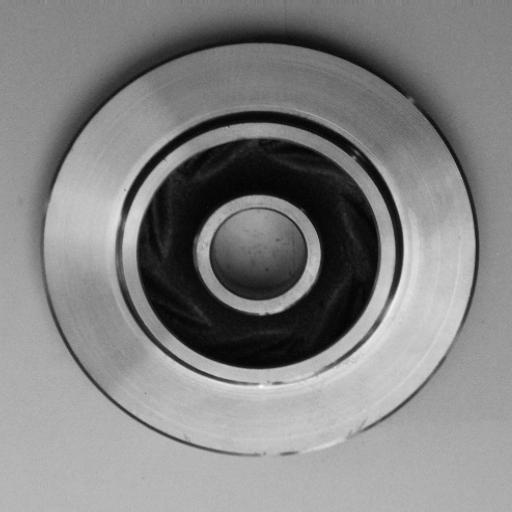scratch: (252, 419, 375, 471), (237, 360, 336, 403)
unpolished_casting: (37, 41, 478, 459)
